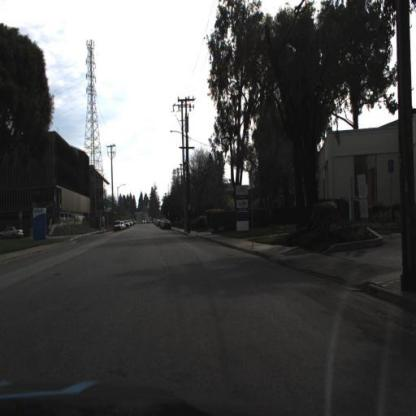car: (1, 226, 25, 242), (115, 219, 124, 234)
